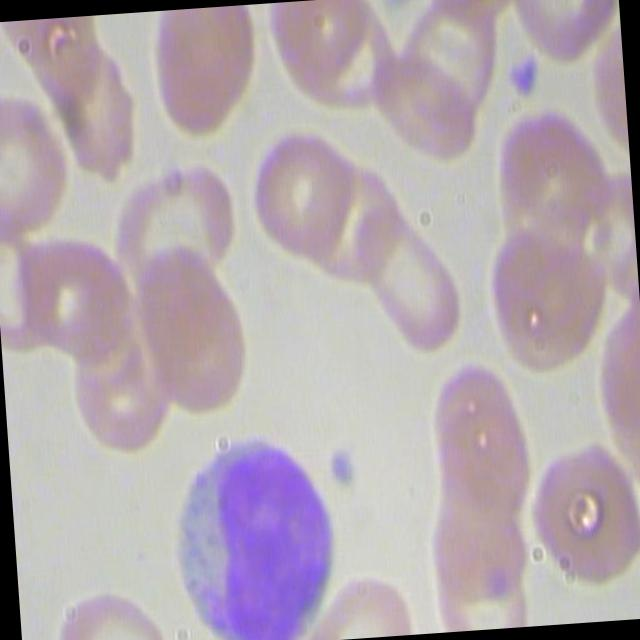Platelets: (508, 46, 548, 104), (325, 448, 358, 490)
RBC: (135, 237, 259, 428), (348, 192, 478, 358), (484, 215, 614, 380), (105, 156, 245, 302), (61, 290, 180, 455), (527, 437, 640, 602), (240, 120, 366, 266), (143, 3, 269, 148), (366, 44, 482, 170), (0, 84, 76, 245), (48, 574, 171, 640), (306, 570, 417, 640)
WBC: (161, 422, 345, 640)
